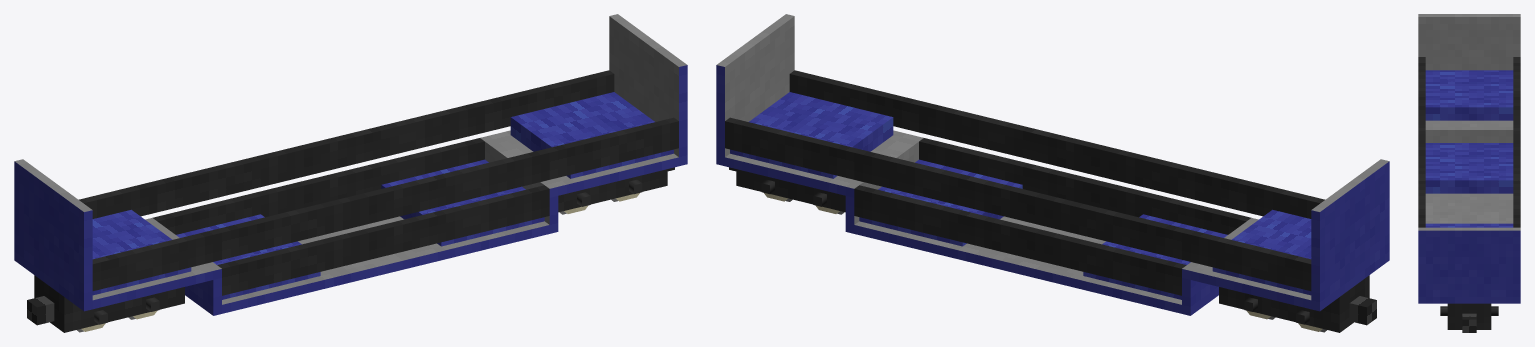
3 views of the same model, side by side, from view 1: azimuth 30°, elevation 25°; view 2: azimuth 150°, elevation 25°; view 3: azimuth 270°, elevation 25° (orthographic). The views are drawn at different scales.
Visible parts, largest first — view 1: FRAME.001, FRAME, SEAT_4, SEAT_3, BOGEY_FRONT, SEAT_2, BOGEY_REAR, SEAT_1, BOGEY_FRONT.couple; view 2: FRAME.001, FRAME, SEAT_4, SEAT_3, BOGEY_FRONT, SEAT_2, BOGEY_REAR, SEAT_1, BOGEY_FRONT.couple; view 3: FRAME, SEAT_1, SEAT_3, FRAME.001, BOGEY_REAR, SEAT_2, BOGEY_REAR.couple, BOGEY_REAR_WHEEL_1.
Boxes of the visible parts, x1,y1,x2,y2 form: FRAME.001: (79, 70, 678, 295); FRAME: (14, 14, 687, 315); SEAT_4: (510, 92, 673, 178); SEAT_3: (92, 209, 191, 295); BOGEY_FRONT: (34, 275, 184, 332); SEAT_2: (381, 159, 544, 246); BOGEY_REAR: (558, 169, 667, 212); SEAT_1: (176, 214, 320, 299); BOGEY_FRONT.couple: (27, 296, 54, 325); FRAME.001: (725, 70, 1324, 295); FRAME: (716, 14, 1389, 315); SEAT_4: (730, 92, 893, 178); SEAT_3: (1212, 209, 1311, 295); BOGEY_FRONT: (1219, 275, 1369, 332); SEAT_2: (859, 159, 1022, 246); BOGEY_REAR: (736, 169, 845, 212); SEAT_1: (1083, 214, 1227, 299); BOGEY_FRONT.couple: (1349, 296, 1376, 325); FRAME: (1418, 14, 1520, 303); SEAT_1: (1425, 143, 1513, 193); SEAT_3: (1425, 70, 1513, 120); FRAME.001: (1418, 57, 1520, 227); BOGEY_REAR: (1447, 303, 1491, 329); SEAT_2: (1425, 223, 1513, 227); BOGEY_REAR.couple: (1462, 313, 1476, 332); BOGEY_REAR_WHEEL_1: (1440, 306, 1498, 315).
Size of the model in its own units: 4.62 by 1.03 by 0.875.
Materials: 4 (4 with a texture image).
